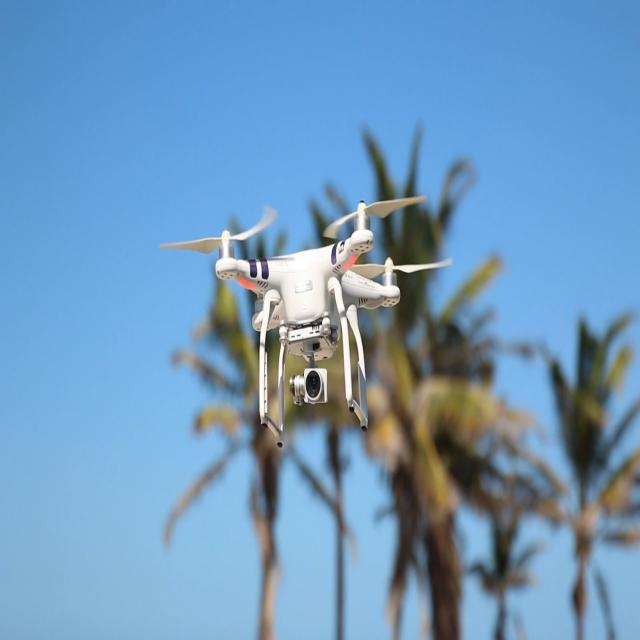Drone: (184, 180, 483, 450)
